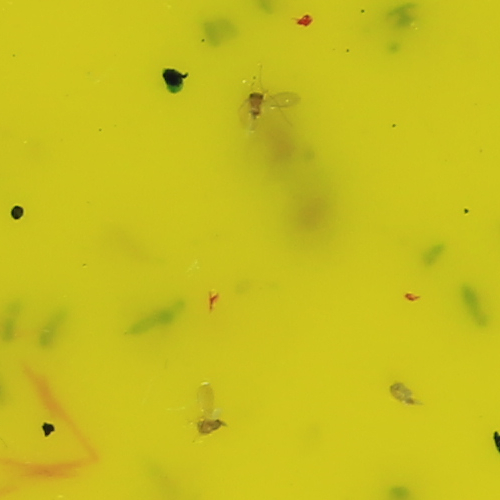Platyobria: (191, 417, 230, 435), (242, 87, 267, 115)
